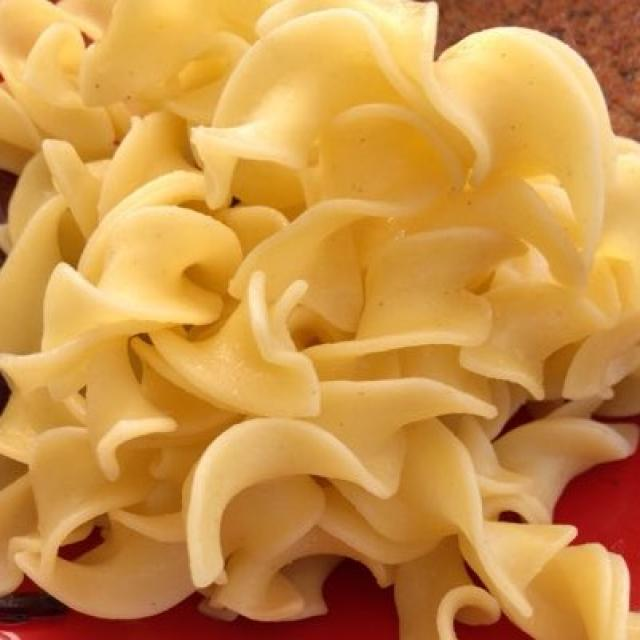pasta: (10, 4, 626, 628)
